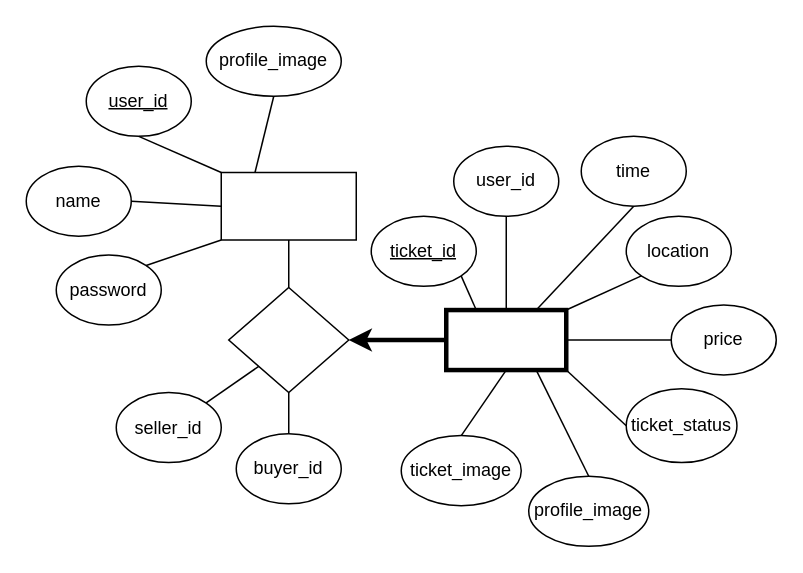
The diagram is 803 pixels wide and 573 high, and some of its shapes have lost their labels. Here are the shapes that lost their labels. From the top down, the box of each, then its label:
(220, 171, 356, 240): User
(227, 286, 349, 393): BuySells
(443, 307, 568, 372): Ticket
